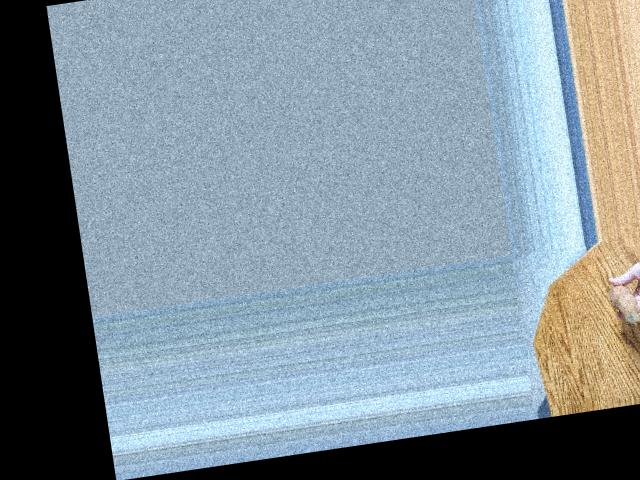sweet_potato: (612, 279, 640, 325)
